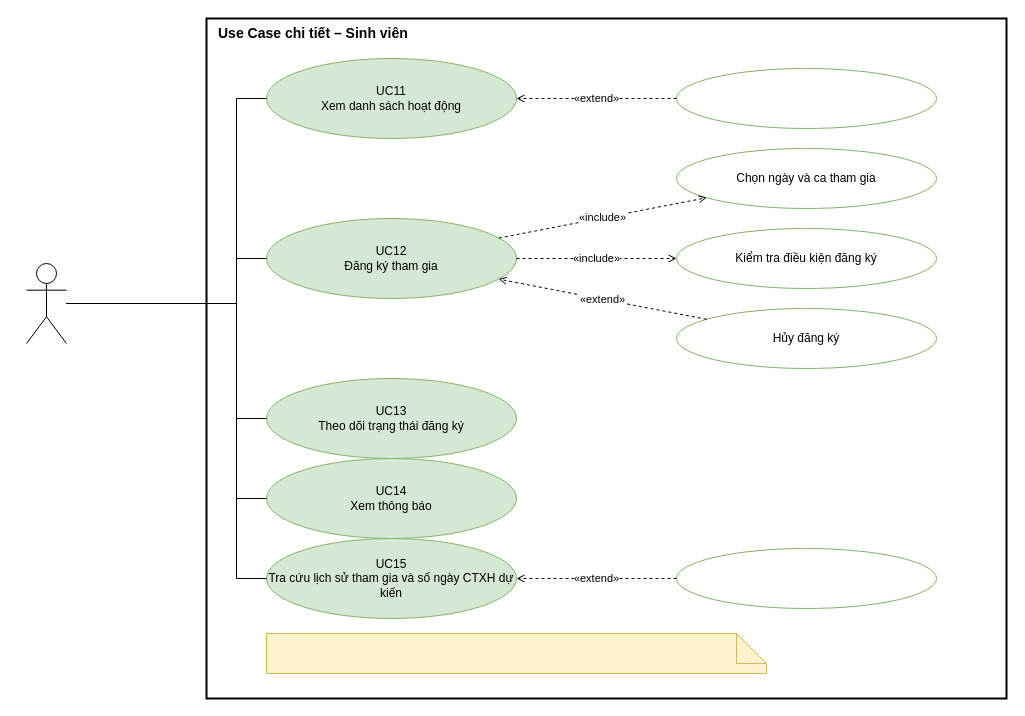
The diagram is 1025 pixels wide and 716 high, and some of its shapes have lost their labels. Each missing label, with the centre of its shape:
Ghi chú: UC11 – UC15 đều «include» UC10 (phải đăng nhập trước khi sử dụng).: pixel 516 653
Sinh viên: pixel 46 303
Xem chi tiết hoạt động: pixel 806 98
Xem số ngày CTXH dự kiến: pixel 806 578
